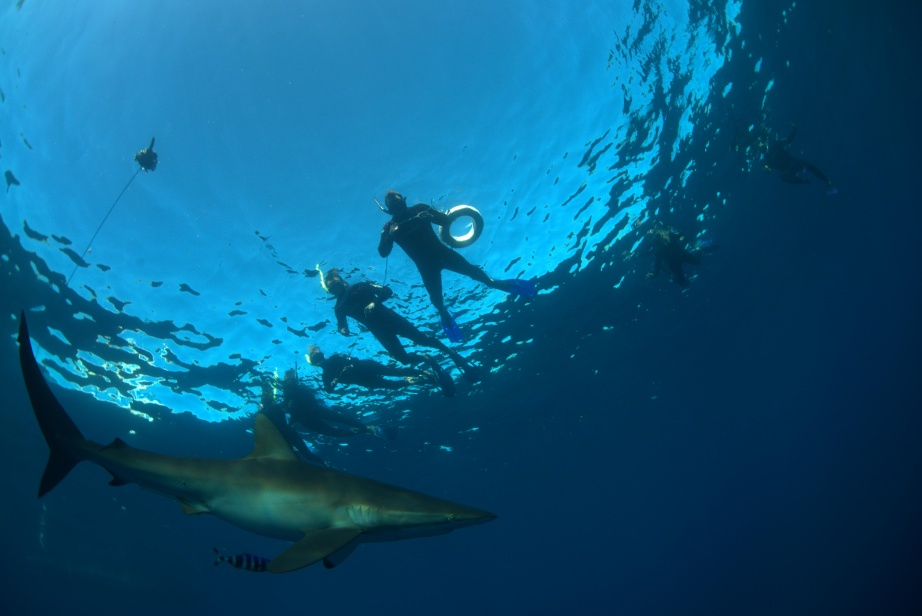Sedoso: (8, 305, 536, 589)
